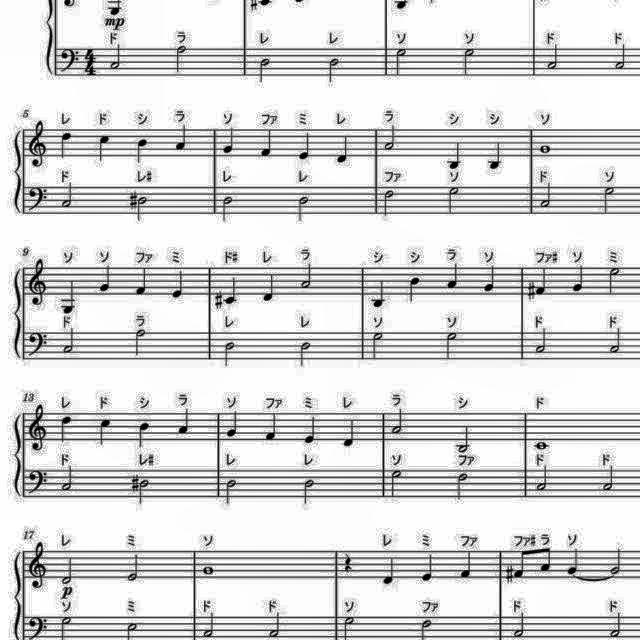Bass-clef: (25, 328, 51, 362), (57, 44, 81, 78), (26, 184, 50, 216), (26, 467, 50, 499), (26, 614, 49, 640)
Diez: (526, 278, 538, 302), (127, 188, 139, 212), (504, 563, 516, 585), (214, 290, 224, 310), (132, 473, 140, 495)
Eighth-note: (513, 548, 531, 582), (538, 546, 554, 576)
Full-note: (200, 562, 216, 580), (535, 143, 553, 155), (532, 441, 552, 451)
Half-note: (443, 186, 465, 218), (296, 260, 318, 292), (378, 188, 399, 220), (217, 194, 237, 226), (130, 326, 150, 358), (442, 330, 462, 362), (381, 122, 401, 154), (200, 608, 220, 640), (606, 608, 626, 640), (604, 327, 624, 358), (58, 462, 78, 493), (391, 45, 409, 79), (369, 328, 386, 364), (293, 193, 313, 223), (60, 327, 80, 357), (294, 340, 314, 370), (454, 425, 474, 455), (459, 45, 476, 79), (257, 52, 275, 84), (544, 42, 562, 74), (538, 181, 556, 213), (389, 406, 407, 438), (388, 469, 406, 501), (455, 470, 473, 502), (57, 554, 75, 586), (126, 550, 142, 584), (612, 44, 630, 74), (59, 181, 77, 211), (135, 193, 153, 223), (532, 327, 550, 357), (223, 478, 241, 508), (534, 463, 552, 493), (108, 42, 124, 74), (172, 43, 188, 75), (326, 54, 342, 86), (602, 184, 618, 216), (606, 266, 622, 298), (512, 608, 528, 640), (221, 339, 237, 369), (600, 465, 616, 495), (301, 478, 317, 507), (138, 476, 152, 508), (607, 546, 623, 574)
Quarter-note: (59, 278, 81, 318), (168, 265, 190, 303), (444, 139, 466, 173), (261, 270, 281, 306), (370, 277, 390, 311), (378, 554, 398, 588), (335, 132, 353, 168), (294, 130, 314, 162), (222, 274, 242, 306), (300, 414, 320, 446), (456, 548, 476, 580), (95, 417, 116, 447), (134, 418, 154, 449), (132, 266, 152, 296), (56, 414, 76, 444), (486, 139, 504, 171), (96, 262, 114, 294), (533, 266, 551, 298), (341, 416, 359, 448), (421, 552, 439, 584), (221, 125, 239, 156), (264, 412, 282, 443), (57, 131, 75, 161), (134, 136, 152, 166), (406, 275, 424, 305), (444, 261, 462, 291), (482, 264, 500, 294), (564, 545, 582, 575), (259, 125, 275, 158), (96, 132, 112, 164), (174, 122, 190, 154), (175, 407, 192, 437), (570, 263, 586, 293), (223, 410, 240, 438)
Quarter-rest: (342, 552, 353, 576)
Treble-clef: (26, 402, 54, 454), (26, 257, 54, 307), (26, 118, 52, 170), (26, 539, 50, 593)
